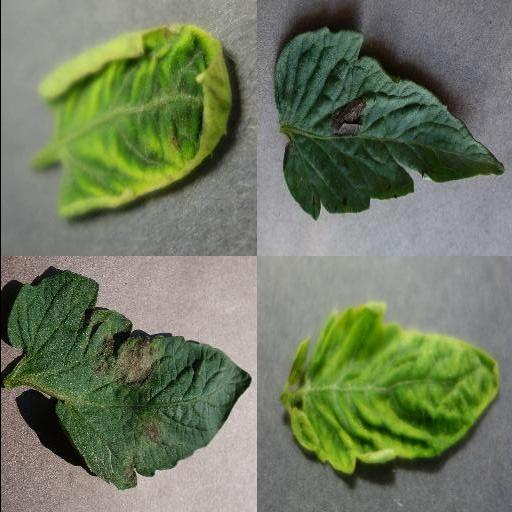Early Blight: (272, 26, 506, 222)
Late Blight: (7, 272, 253, 492)
Yellow Leaf Curl Virus: (37, 23, 231, 219), (281, 303, 499, 475)
